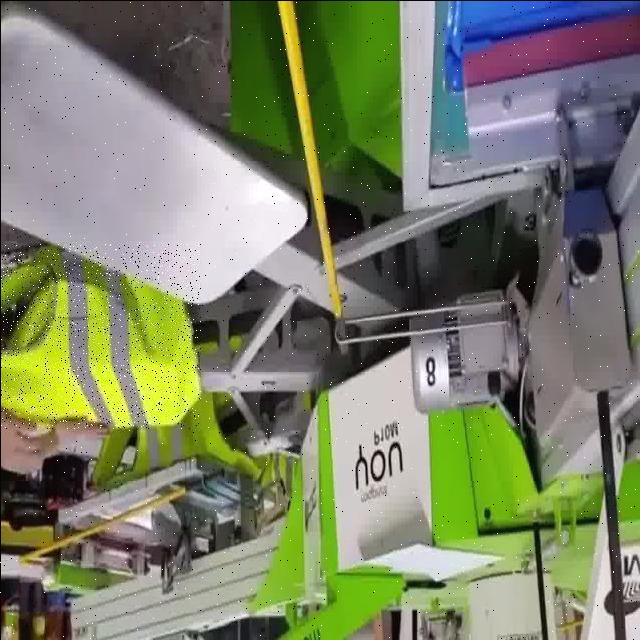Vest: (0, 243, 200, 428)
